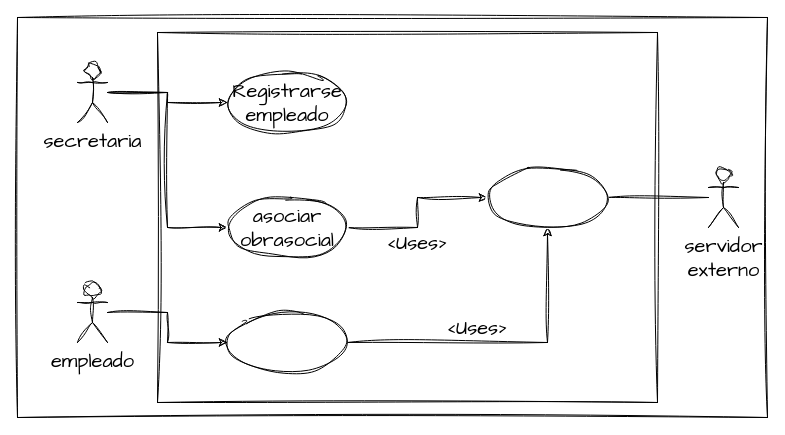
Image size: 785x435. Some labels were removed from this diagram. Each missing label, with the box of its shape:
regularizar deuda: (226, 312, 348, 372)
verificar morosidad: (486, 166, 608, 228)
